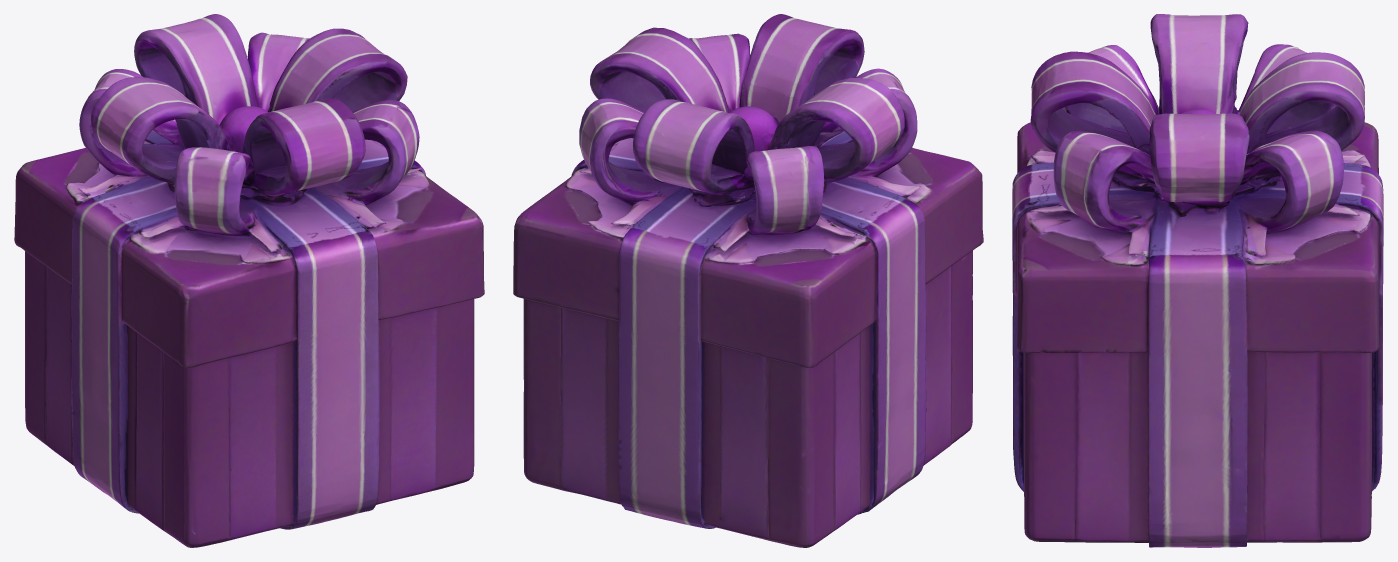
File: giftbox3d.glb
The picture shows the model from 3 angles, left to right: view 1: azimuth 30°, elevation 25°; view 2: azimuth 150°, elevation 25°; view 3: azimuth 270°, elevation 25°; orthographic projection. The views are drawn at different scales.
Bounding box in the file's own units: 1.61 × 2 × 1.62.
Materials: 1 (1 with a texture image).
